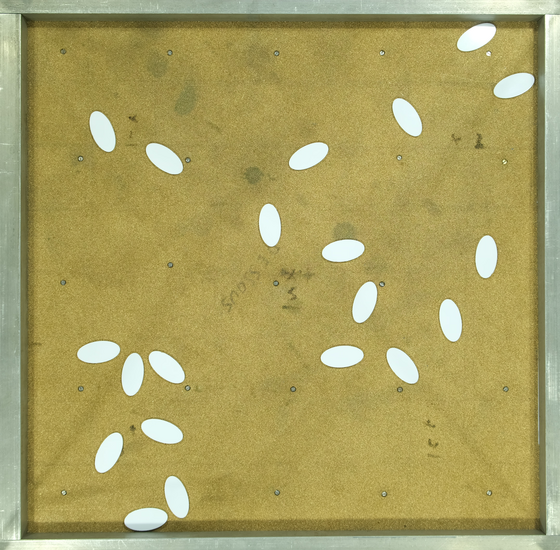pallet: (81, 108, 125, 157), (430, 296, 474, 345), (462, 230, 506, 279), (344, 276, 388, 325), (493, 62, 537, 111), (385, 91, 429, 140), (454, 11, 498, 60), (287, 134, 331, 183), (248, 200, 292, 249), (143, 135, 187, 184), (83, 428, 127, 477), (383, 341, 427, 390), (316, 335, 366, 376), (119, 501, 169, 542), (73, 329, 123, 370), (136, 411, 186, 452), (145, 345, 189, 391), (316, 230, 365, 265), (118, 349, 149, 397), (159, 472, 190, 520)
